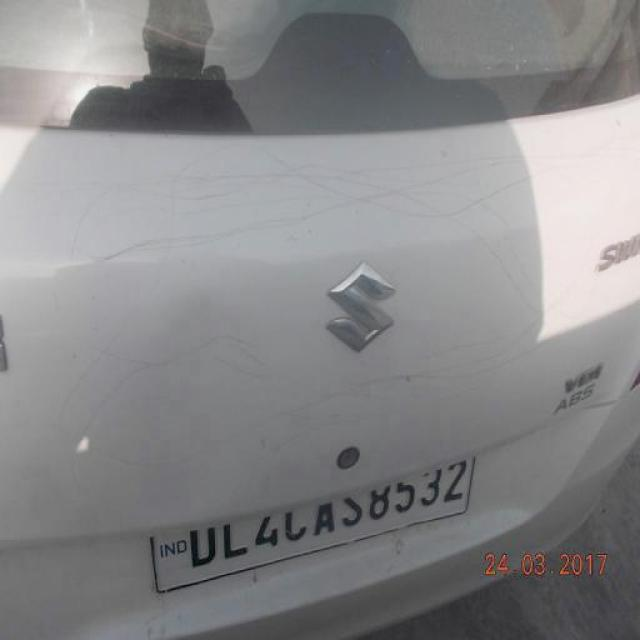car damage: (109, 256, 283, 528), (210, 164, 509, 231)
